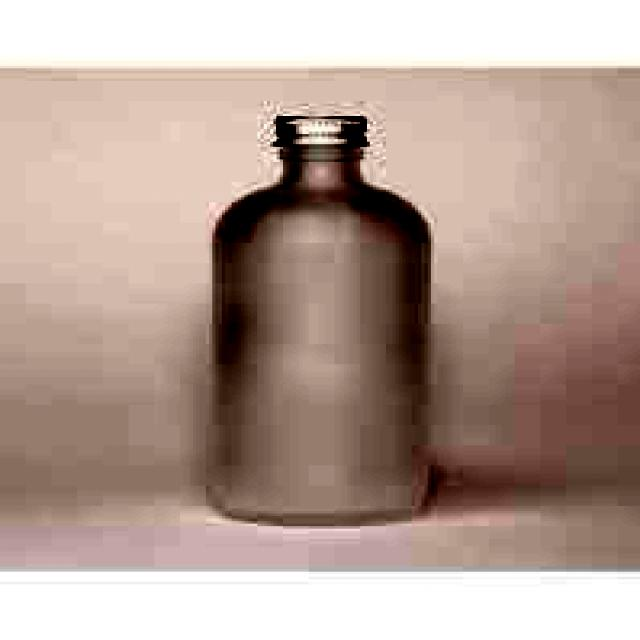Glass: (201, 108, 441, 531)
Metal: (268, 108, 374, 151)
